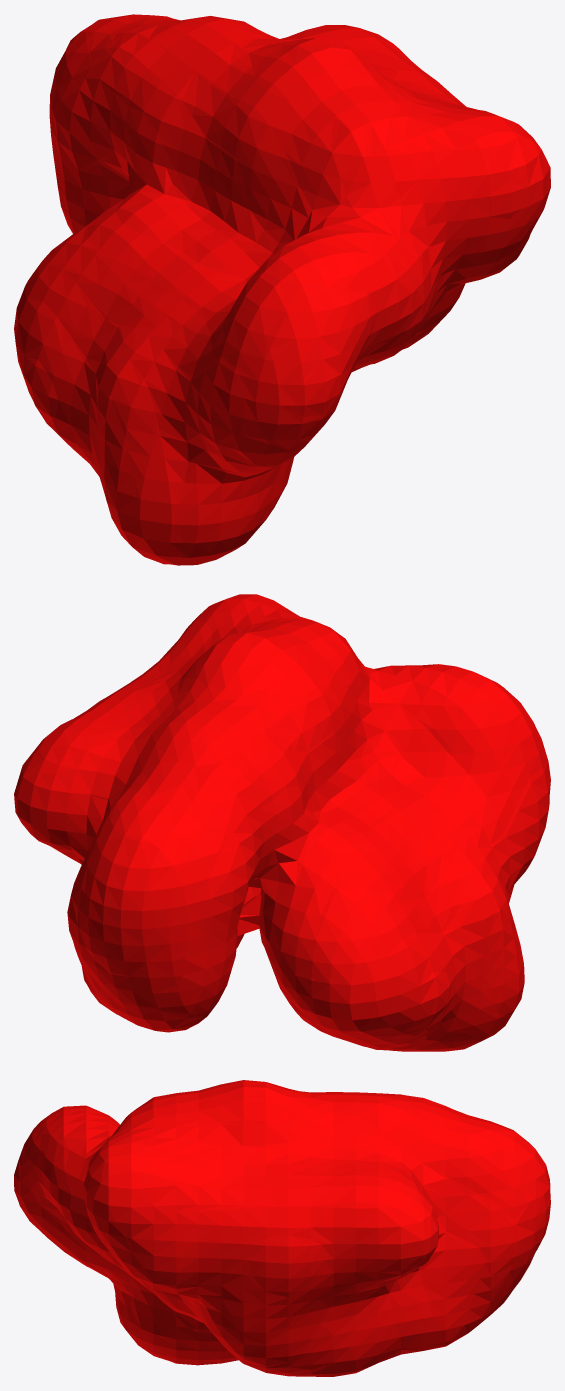
Rendered from stpA_coarse.dae.
3 renders of one model, top to bottom at view 1: azimuth 30°, elevation 25°; view 2: azimuth 150°, elevation 25°; view 3: azimuth 270°, elevation 25°, orthographic. The views are drawn at different scales.
Visible parts, largest first — view 1: stpA; view 2: stpA; view 3: stpA.
Part boxes in pixels (<box>): stpA: <box>14,14,550,565</box>; stpA: <box>14,594,550,1051</box>; stpA: <box>14,1080,550,1376</box>.
Size of the model in its own units: 37.93 by 37.83 by 54.11.
